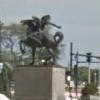Statue: (10, 9, 81, 68)
